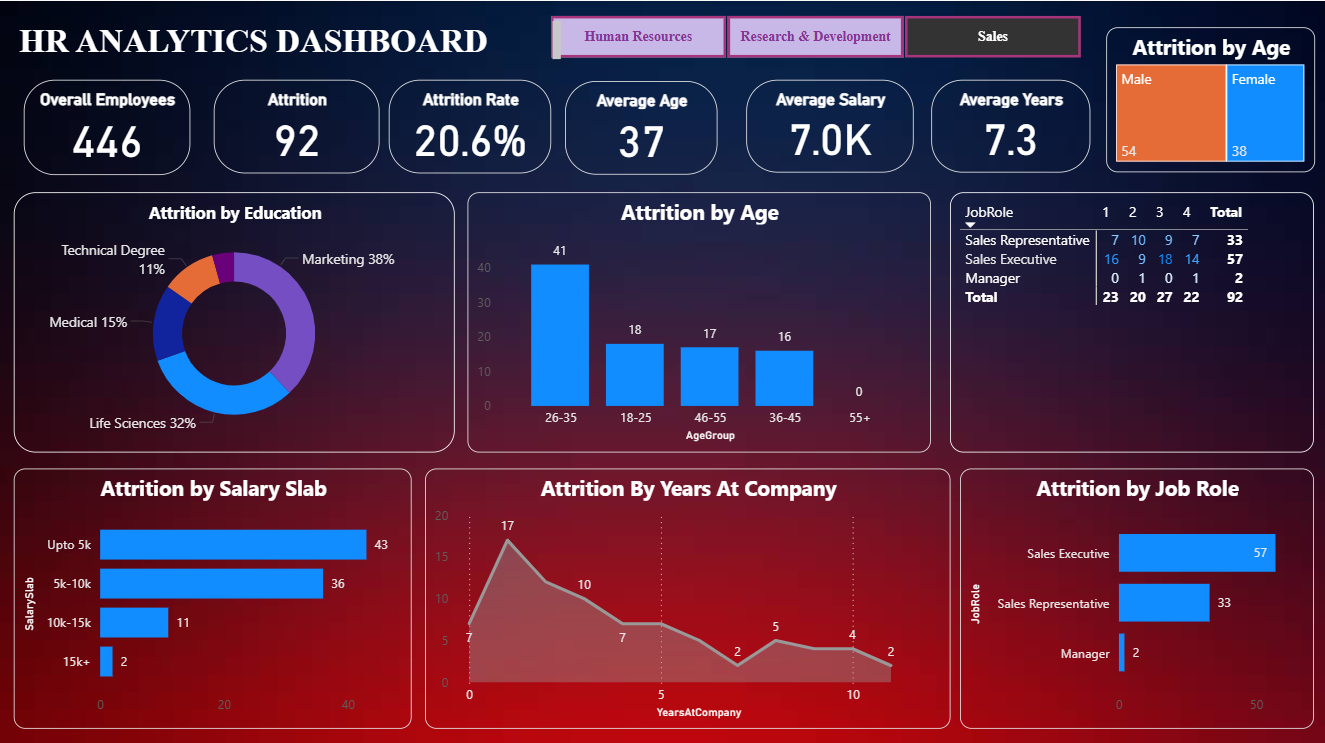

What the dashboard file says about the page in this screenshot:
{"tool":"powerbi","page":{"name":"Page 1","canvas":[1280,720],"ordinal":0},"visuals":[{"type":"card","title":"Overall Employees","fields":{"Values":["CountNonNull(HR_Analytics (2).EmpID)"]},"box":[22.9,76,160.5,91.7],"z":0},{"type":"card","title":"Attrition","fields":{"Values":["Sum(HR_Analytics (2).AttritionCount)"]},"box":[205.7,75.7,160,90],"z":1000},{"type":"card","title":"Attrition Rate","fields":{"Values":["HR_Analytics (2).AttritionRate"]},"box":[375.7,75.7,157.1,90],"z":2000},{"type":"card","title":"Average Age","fields":{"Values":["Avg(HR_Analytics (2).Age)"]},"box":[545.7,77.1,147.1,90],"z":3000},{"type":"card","title":"Average Salary","fields":{"Values":["Avg(HR_Analytics (2).MonthlyIncome)"]},"box":[720.2,76,161.7,89.3],"z":4000},{"type":"card","title":"Average Years","fields":{"Values":["Avg(HR_Analytics (2).YearsAtCompany)"]},"box":[898.8,76,153.2,89.3],"z":5000},{"type":"donutChart","title":"Attrition by Education","fields":{"Category":["HR_Analytics (2).EducationField"],"Y":["Sum(HR_Analytics (2).AttritionCount)"]},"box":[12.9,184.3,425.7,251.4],"z":6000},{"type":"columnChart","title":"Attrition by Age","fields":{"Category":["HR_Analytics (2).AgeGroup"],"Y":["Sum(HR_Analytics (2).AttritionCount)"]},"box":[451.4,184.3,447.1,251.4],"z":7000},{"type":"pivotTable","fields":{"Values":["Sum(HR_Analytics (2).AttritionCount)"],"Rows":["HR_Analytics (2).JobRole"],"Columns":["HR_Analytics (2).JobSatisfaction"]},"box":[917.1,184.3,351.4,251.4],"z":8000},{"type":"barChart","title":"Attrition by Salary Slab","fields":{"Category":["HR_Analytics (2).SalarySlab"],"Y":["Sum(HR_Analytics (2).AttritionCount)"]},"box":[12.9,451.4,384.3,251.4],"z":9000},{"type":"barChart","title":"Attrition by Job Role","fields":{"Y":["Sum(HR_Analytics (2).AttritionCount)"],"Category":["HR_Analytics (2).JobRole"]},"box":[927.1,451.4,341.4,251.4],"z":10000},{"type":"areaChart","title":"Attrition By Years At Company","fields":{"Category":["HR_Analytics (2).YearsAtCompany"],"Y":["Sum(HR_Analytics (2).AttritionCount)"]},"box":[410,451.4,507.1,251.4],"z":11000},{"type":"treemap","title":"Attrition by Age","fields":{"Group":["HR_Analytics (2).Gender"],"Values":["Sum(HR_Analytics (2).AttritionCount)"]},"box":[1067.1,25.7,201.4,140],"z":12000},{"type":"slicer","fields":{"Values":["HR_Analytics (2).Department"]},"box":[505.7,7.1,561.4,54.3],"z":13000},{"type":"textbox","box":[12.9,14.3,532.9,47.1],"z":14000}]}

Visuals, with their boxes in screenshot pixels (x1, y1, x2, y2), scaled from the page's 1280x720 canvas onto the 1325x743 screenshot:
"Overall Employees" card: pyautogui.locateOnScreen(24, 78, 190, 173)
"Attrition" card: pyautogui.locateOnScreen(213, 78, 379, 171)
"Attrition Rate" card: pyautogui.locateOnScreen(389, 78, 552, 171)
"Average Age" card: pyautogui.locateOnScreen(565, 80, 717, 172)
"Average Salary" card: pyautogui.locateOnScreen(746, 78, 913, 171)
"Average Years" card: pyautogui.locateOnScreen(930, 78, 1089, 171)
"Attrition by Education" donutChart: pyautogui.locateOnScreen(13, 190, 454, 450)
"Attrition by Age" columnChart: pyautogui.locateOnScreen(467, 190, 930, 450)
pivotTable - Sum(HR_Analytics (2).AttritionCount) x HR_Analytics (2).JobRole: pyautogui.locateOnScreen(949, 190, 1313, 450)
"Attrition by Salary Slab" barChart: pyautogui.locateOnScreen(13, 466, 411, 725)
"Attrition by Job Role" barChart: pyautogui.locateOnScreen(960, 466, 1313, 725)
"Attrition By Years At Company" areaChart: pyautogui.locateOnScreen(424, 466, 949, 725)
"Attrition by Age" treemap: pyautogui.locateOnScreen(1105, 27, 1313, 171)
slicer - HR_Analytics (2).Department: pyautogui.locateOnScreen(523, 7, 1105, 63)
textbox: pyautogui.locateOnScreen(13, 15, 565, 63)
